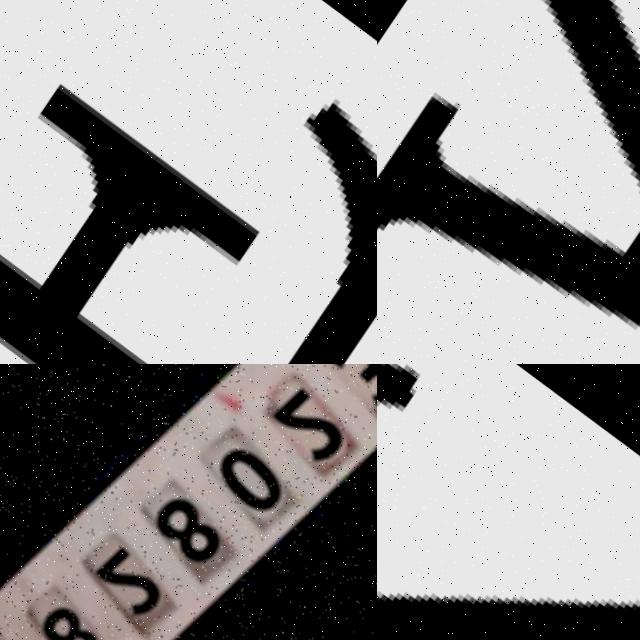0: (182, 415, 309, 537)
2: (242, 364, 369, 485), (64, 527, 182, 640)
3: (302, 364, 377, 426)
8: (116, 466, 247, 591), (4, 582, 121, 640)
E: (0, 75, 254, 364)
R: (377, 0, 640, 364)
Z: (377, 364, 640, 640)
